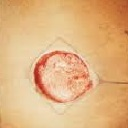Carbuncle: (34, 49, 92, 101)
